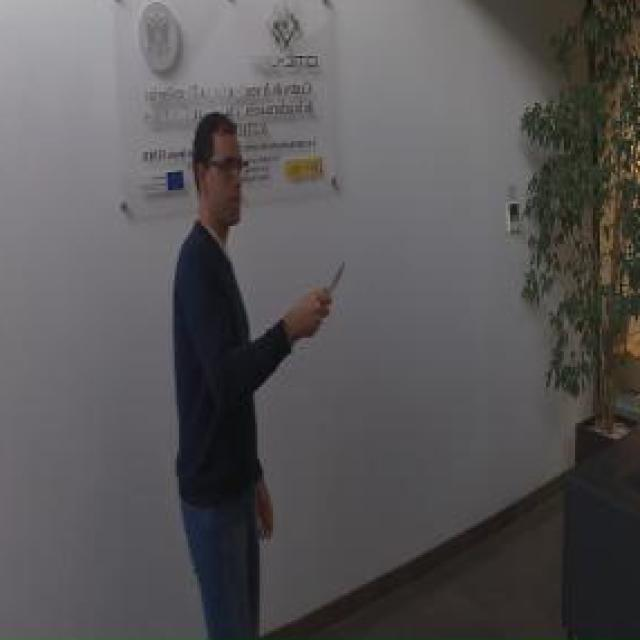knife: (311, 255, 347, 329)
